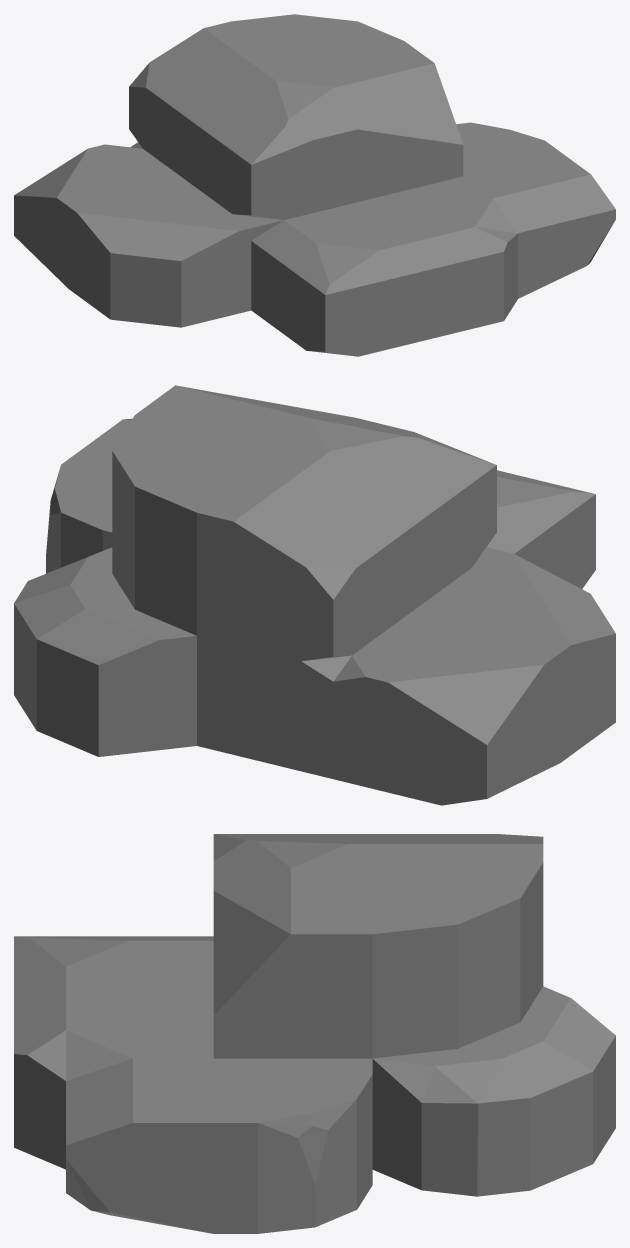
The model's file is rock.fbx.
The picture shows the model from 3 angles, top to bottom: view 1: azimuth 30°, elevation 25°; view 2: azimuth 150°, elevation 25°; view 3: azimuth 270°, elevation 25°; orthographic projection. The views are drawn at different scales.
Parts seen in each view (by area): view 1: rock; view 2: rock; view 3: rock.
Boxes of the visible parts, x1,y1,x2,y2 form: rock: [14, 14, 615, 356]; rock: [14, 385, 615, 805]; rock: [14, 834, 615, 1233].
Size of the model in its own units: 401 by 157 by 365.
